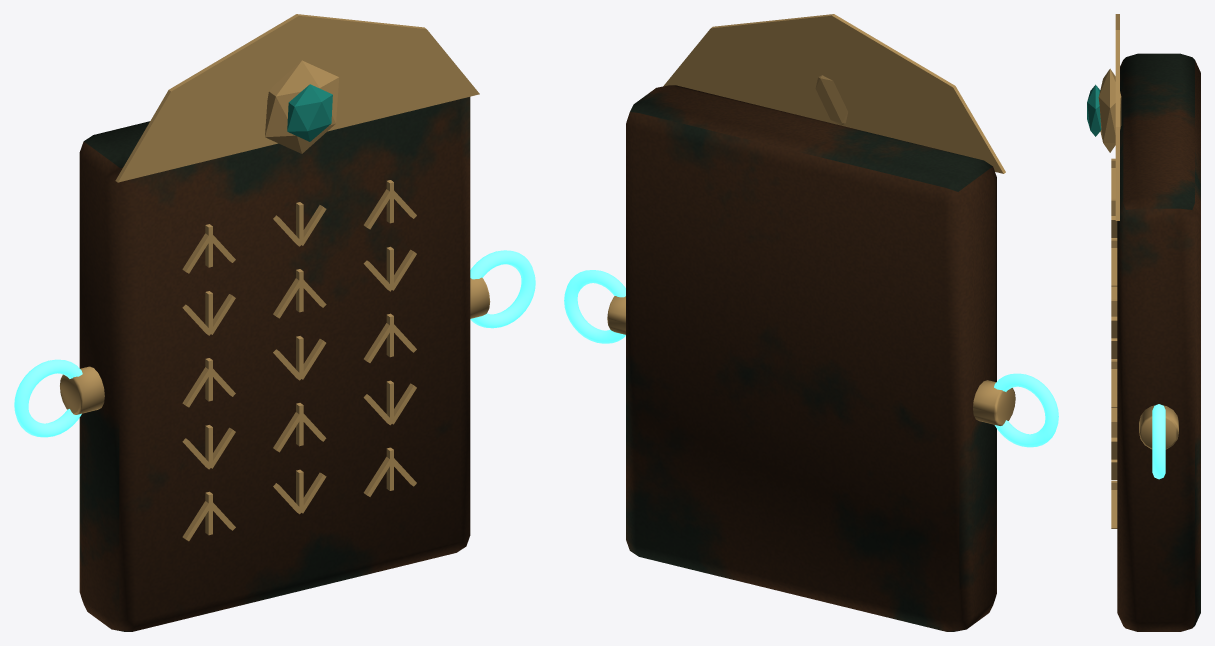
Rendered from inscribed_stele.fbx.
3 views of the same model, side by side, from view 1: azimuth 30°, elevation 25°; view 2: azimuth 150°, elevation 25°; view 3: azimuth 270°, elevation 25° (orthographic). The views are drawn at different scales.
Visible parts, largest first — view 1: Reviewed_inscribed_stele_Body.005, TH10_Stele_Handle.016, TH10_Stele_Handle.017; view 2: Reviewed_inscribed_stele_Body.005, TH10_Stele_Handle.016, TH10_Stele_Handle.017; view 3: Reviewed_inscribed_stele_Body.005, TH10_Stele_Handle.017.
Part boxes in pixels (box(x1,y1,x2,y2)): Reviewed_inscribed_stele_Body.005: box(60, 14, 490, 631); TH10_Stele_Handle.016: box(14, 359, 82, 437); TH10_Stele_Handle.017: box(470, 250, 535, 328); Reviewed_inscribed_stele_Body.005: box(607, 14, 1015, 631); TH10_Stele_Handle.016: box(994, 373, 1058, 447); TH10_Stele_Handle.017: box(564, 270, 625, 343); Reviewed_inscribed_stele_Body.005: box(1087, 14, 1200, 631); TH10_Stele_Handle.017: box(1152, 404, 1165, 479).
Bounding box in the file's own units: 0.488 × 0.525 × 0.1022.
Materials: 4 (1 with a texture image).
